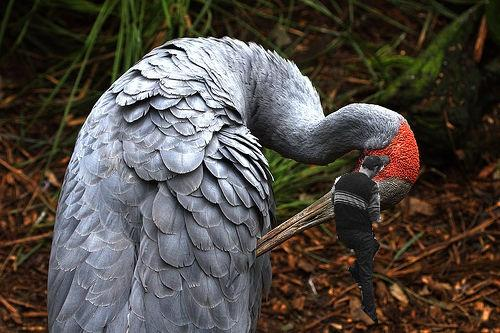tampered: (331, 156, 384, 324)
